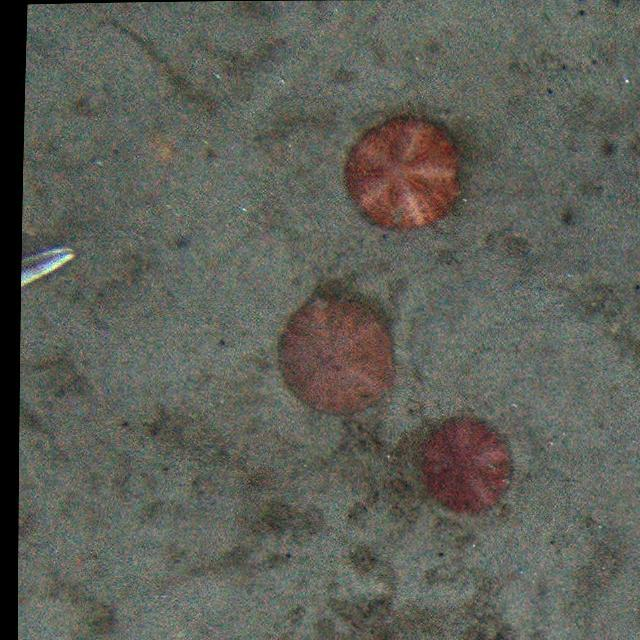skate: (21, 230, 76, 317)
